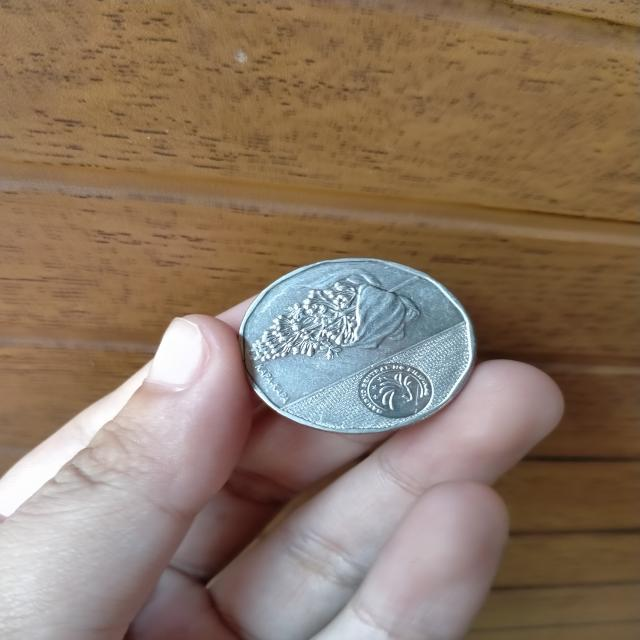10_New_Back: (245, 262, 443, 376)
